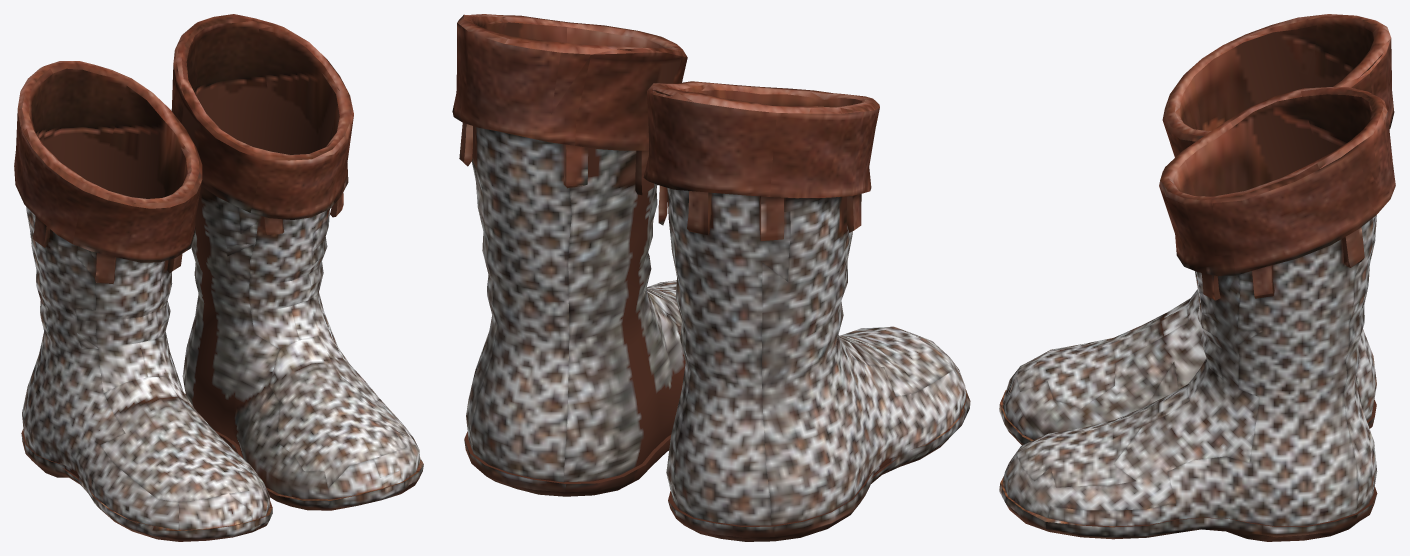
The model's file is item_mm9_10128.glb.
3 views of the same model, side by side, from view 1: azimuth 30°, elevation 25°; view 2: azimuth 150°, elevation 25°; view 3: azimuth 270°, elevation 25° (orthographic). The views are drawn at different scales.
Visible parts, largest first — view 1: d10128; view 2: d10128; view 3: d10128.
Boxes of the visible parts, <box> form: d10128: <box>14,14,423,541</box>; d10128: <box>452,14,970,541</box>; d10128: <box>999,14,1395,541</box>.
Bounding box in the file's own units: 0.862 × 1 × 0.8781.
1 material, 1 textured.
